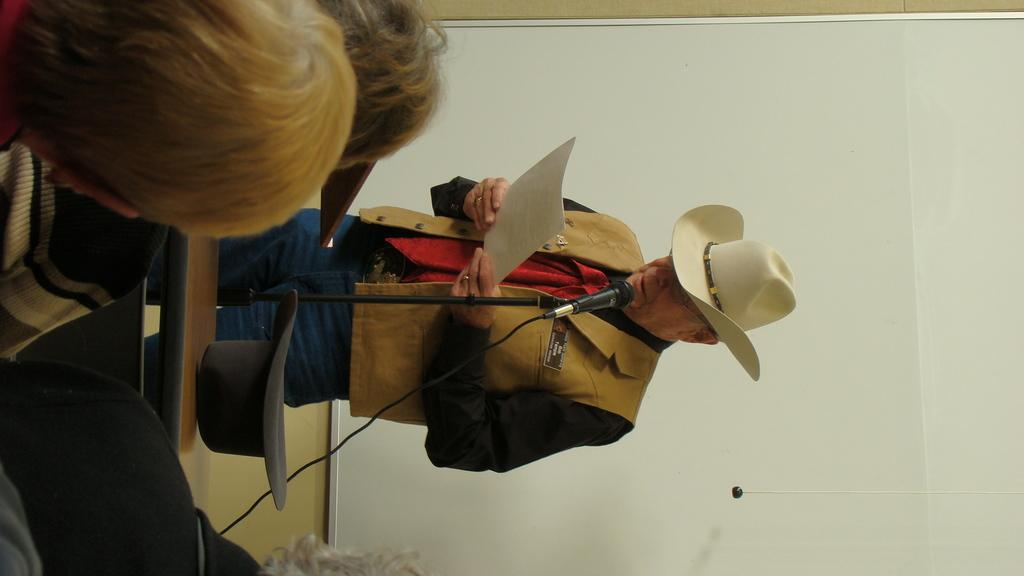Hat: (666, 202, 796, 382)
